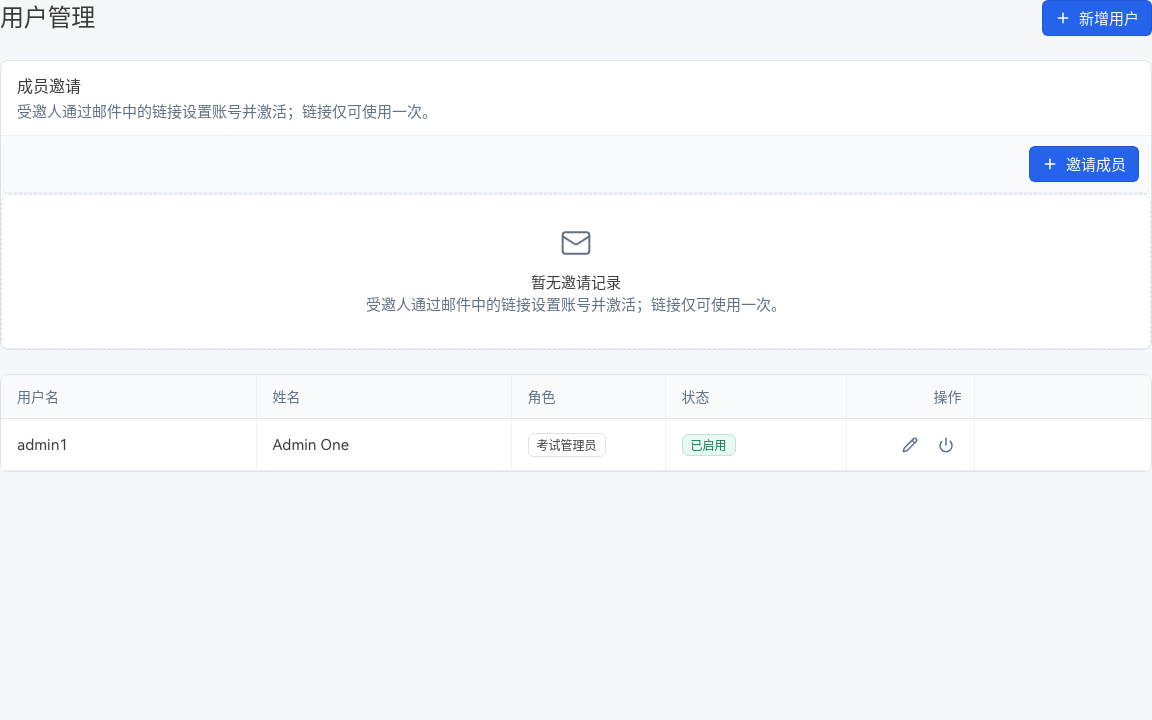
UsersPage › create dialog shows the staff role options sourced from /roles/assignable (F-01)
The image size is (1152, 720).
Step 1. Click the button "新增用户" → coordinates (1097, 18), box [1042, 0, 1151, 36]
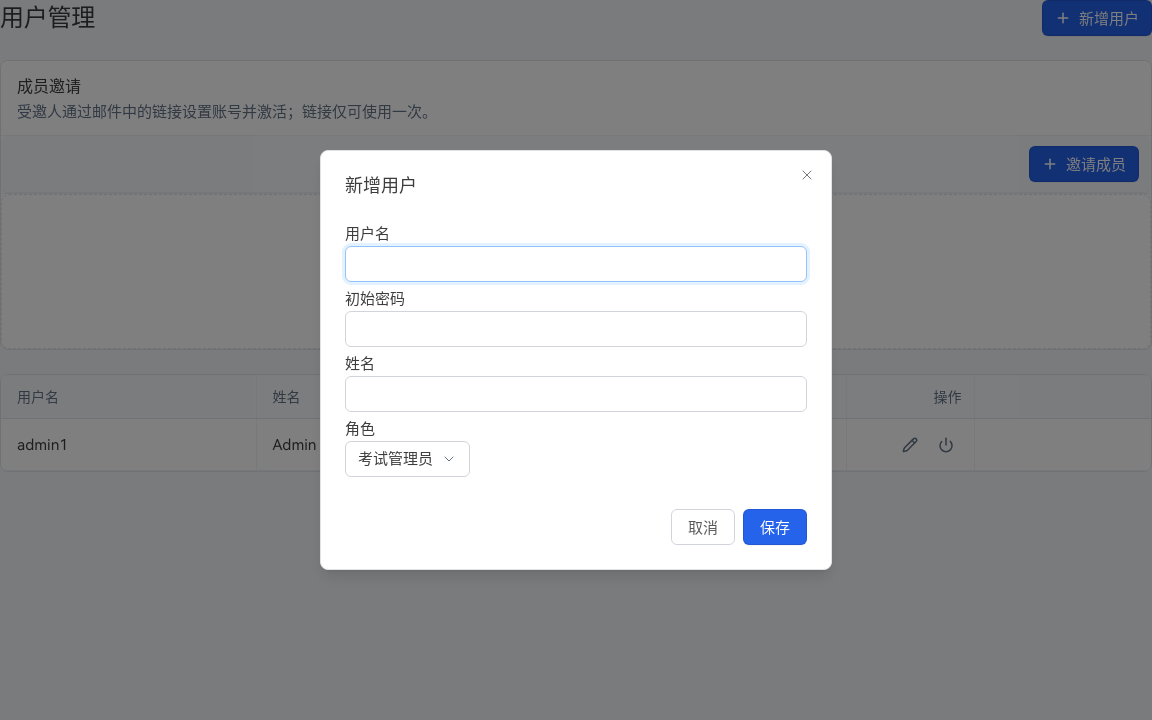
Step 2. Click the dropdown → coordinates (408, 459), box [345, 441, 470, 477]
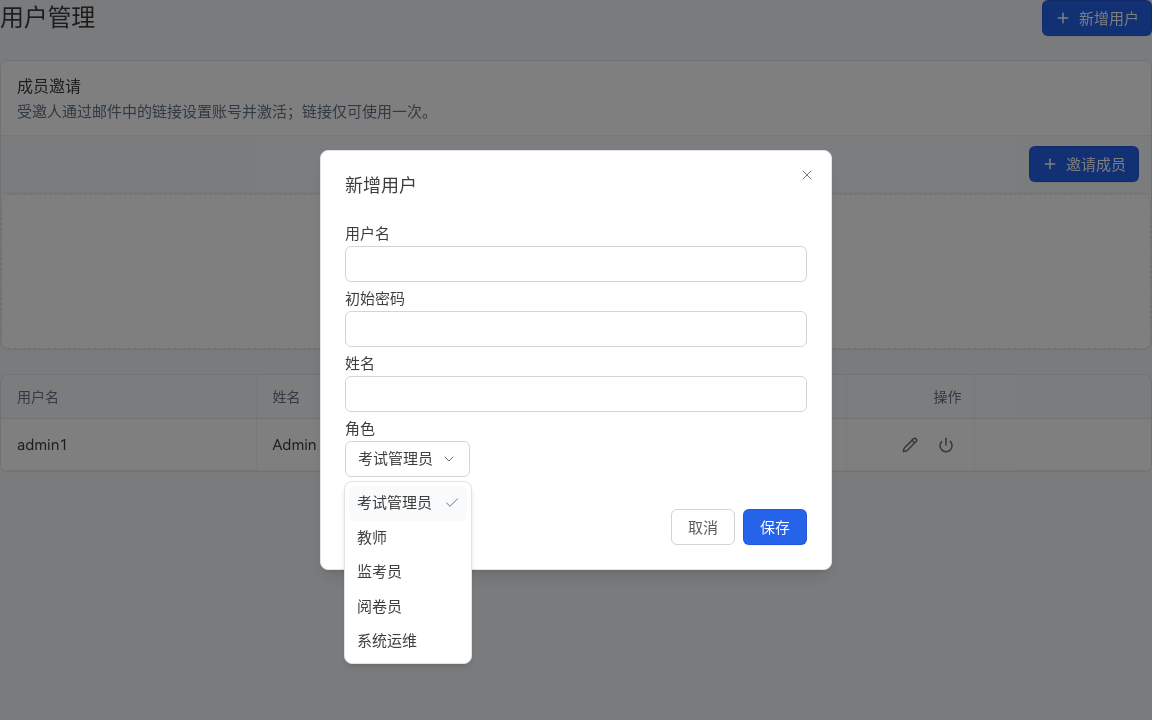
Check: the option "考试管理员" is shown, box [349, 486, 467, 520]
Check: the option "教师" is shown, box [357, 528, 387, 546]
Check: the option "监考员" is shown, box [357, 563, 402, 581]
